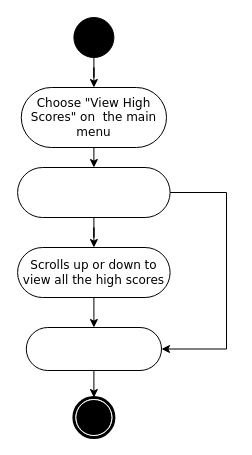
The diagram is 252 pixels wide and 455 high, and some of its shapes have lost their labels. Here are the shapes that lost their labels. From the top down, the box of each, then its label:
(17, 166, 170, 218): Display the high scores screen
(25, 326, 162, 370): Go back to the main menu
